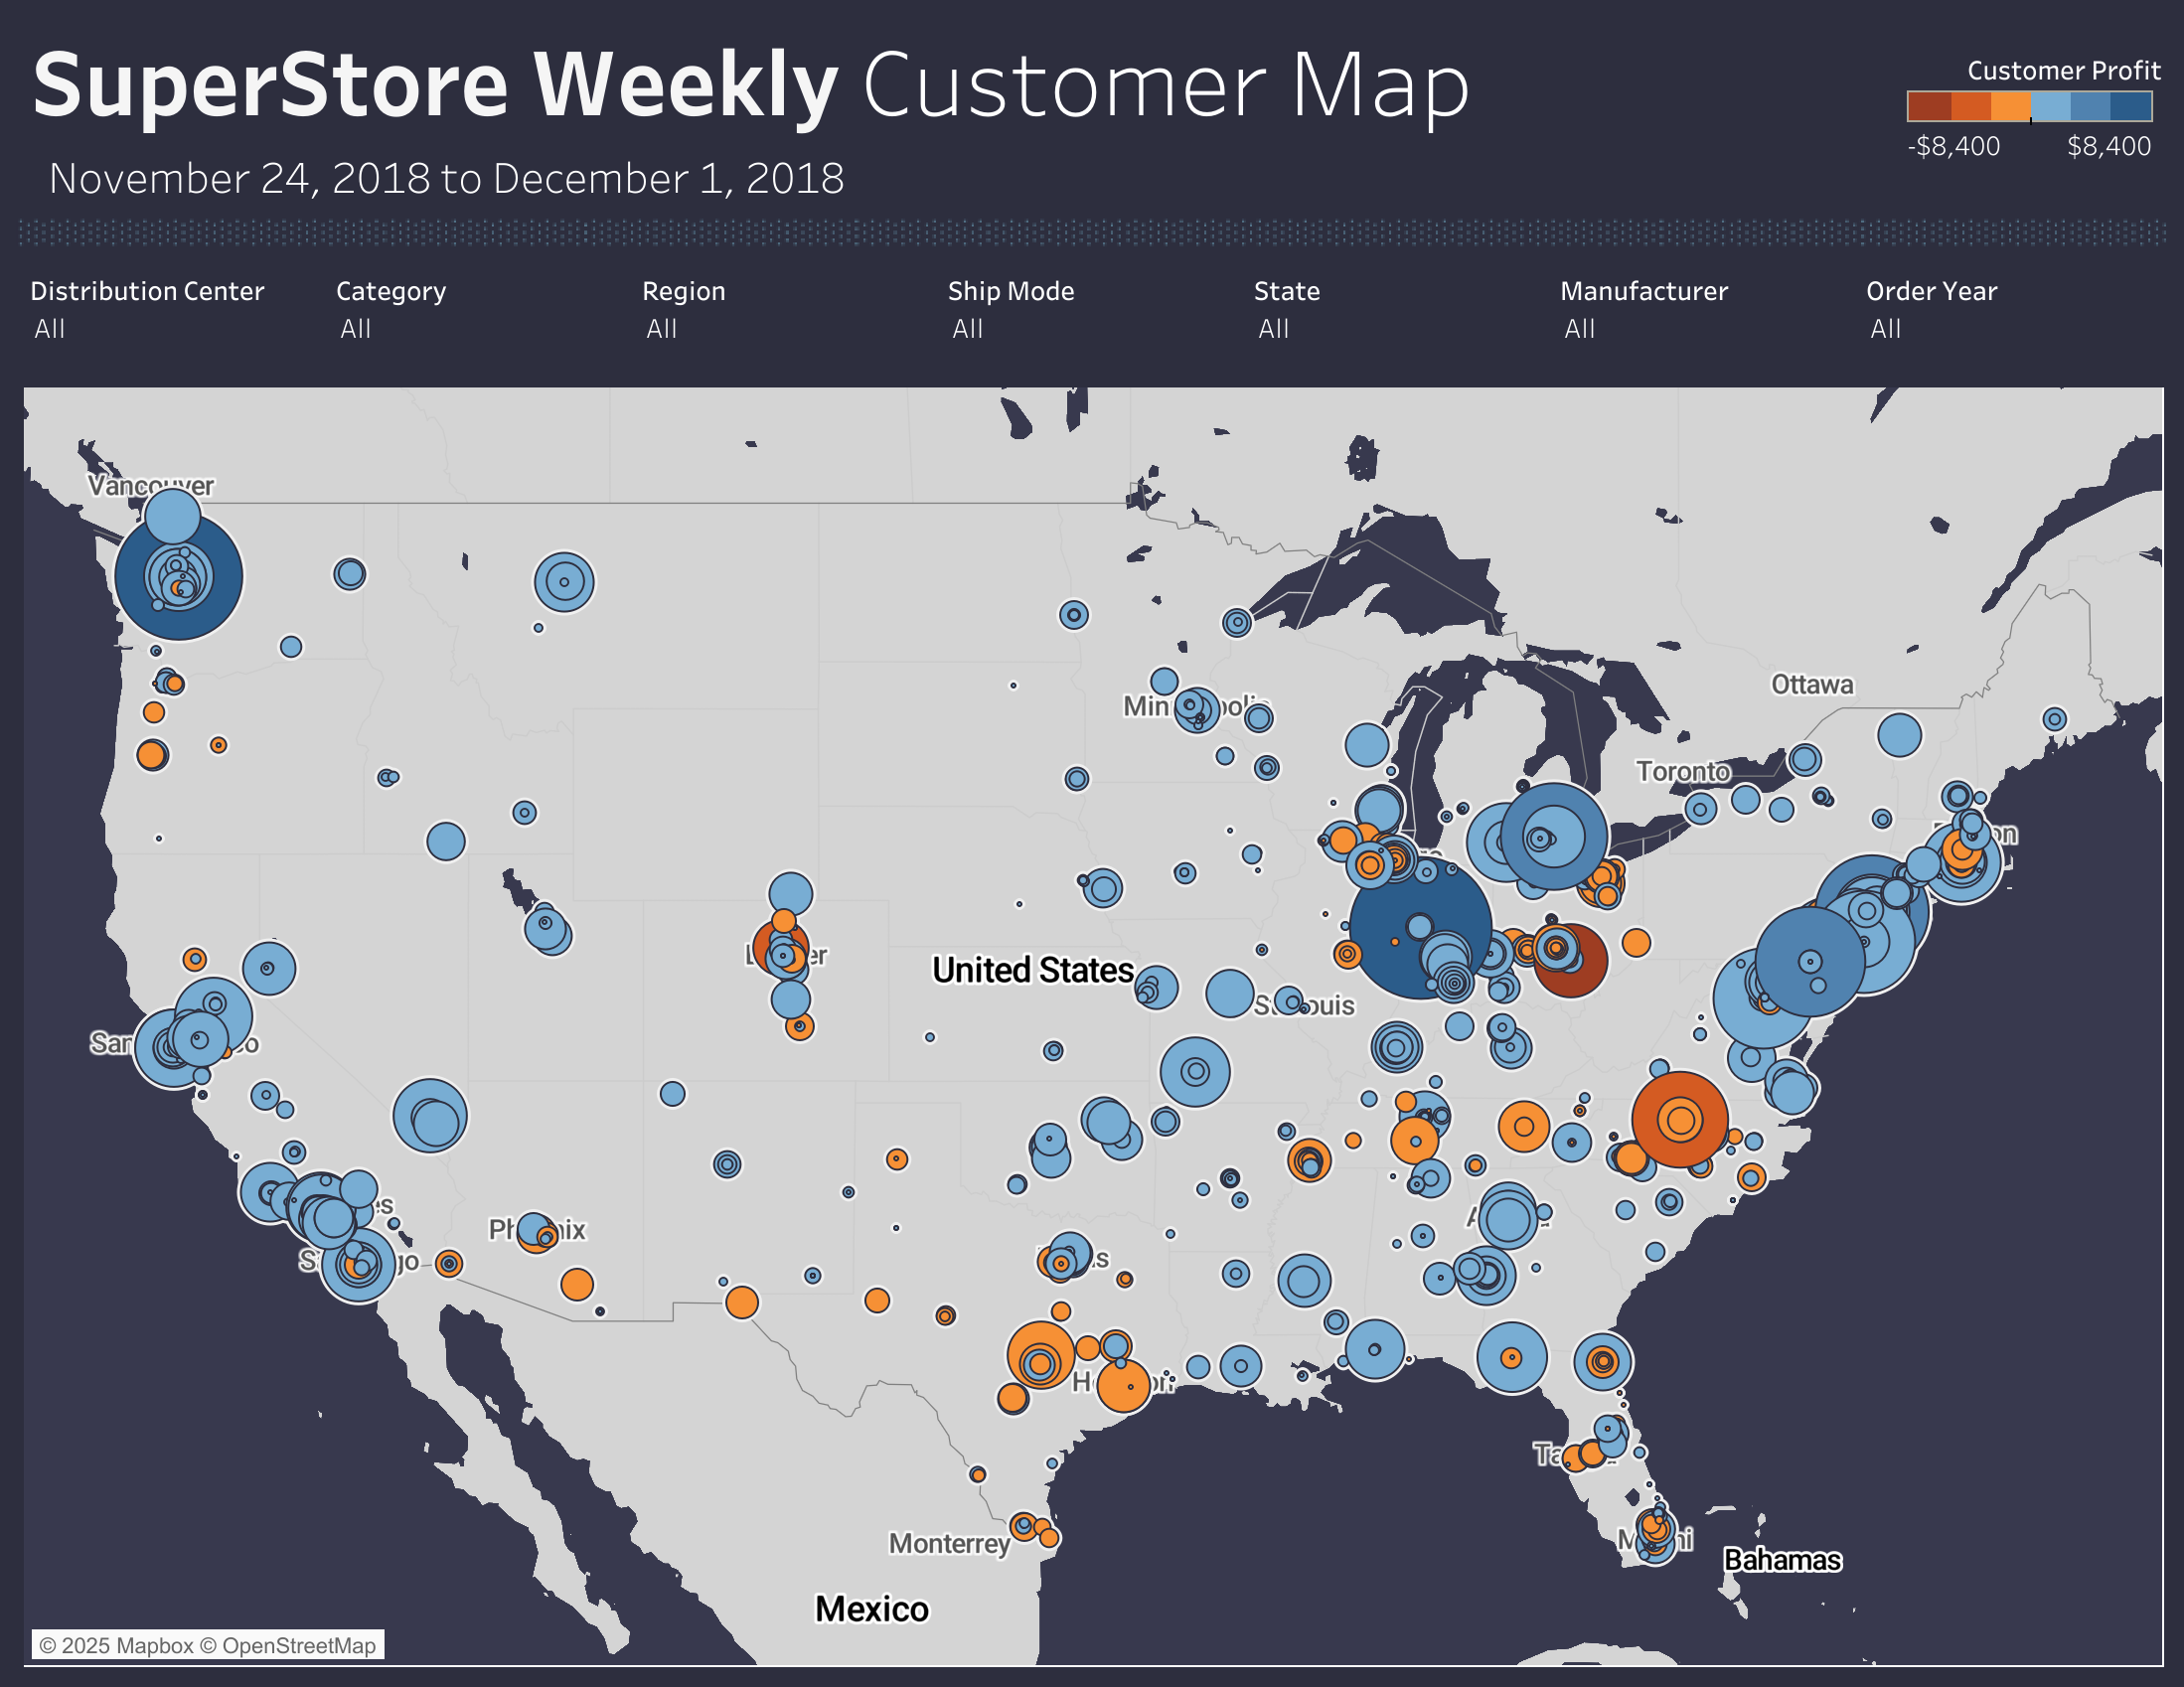

This screenshot's page, from the dashboard's own definition file:
{"tool":"tableau","page":{"name":"5 Geo Chart","canvas":[1100,850],"ordinal":4},"visuals":[{"type":"text","box":[8,8,1084,183]},{"type":"legend","title":"Big Dumb Map","param":"[Sample - Superstore].[sum:Profit:qk]","box":[956,21,132,79]},{"type":"worksheet","title":"Date","mark":"Automatic","box":[20,73,584,36]},{"type":"image","param":"Image/Border5.png","box":[8,110,1083,16]},{"type":"filter","title":"Big Dumb Map","param":"[Sample - Superstore].[State (group)]","box":[11,131,154,55]},{"type":"filter","title":"Big Dumb Map","param":"[Sample - Superstore].[none:Category:nk]","box":[165,131,154,55]},{"type":"filter","title":"Big Dumb Map","param":"[Sample - Superstore].[none:Region:nk]","box":[319,131,154,55]},{"type":"filter","title":"Big Dumb Map","param":"[Sample - Superstore].[none:Ship Mode:nk]","box":[473,131,154,55]},{"type":"filter","title":"Big Dumb Map","param":"[Sample - Superstore].[none:State:nk]","box":[627,131,154,55]},{"type":"filter","title":"Big Dumb Map","param":"[Sample - Superstore].[Product Name (group)]","box":[781,131,154,55]},{"type":"filter","title":"Big Dumb Map","param":"[Sample - Superstore].[yr:Order Date:ok]","box":[935,131,154,55]},{"type":"worksheet","title":"Big Dumb Map","mark":"Automatic","box":[8,191,1084,651]}]}

Visuals, with their boxes in screenshot pixels (x1, y1, x2, y2), scaled from the page's 1100x850 canvas onto the 2184x1687 screenshot:
text: 16, 16, 2168, 380
"Big Dumb Map" legend: 1898, 42, 2160, 199
"Date" worksheet: 40, 145, 1199, 217
image: 16, 219, 2166, 250
"Big Dumb Map" filter: 22, 260, 328, 370
"Big Dumb Map" filter: 328, 260, 633, 370
"Big Dumb Map" filter: 633, 260, 939, 370
"Big Dumb Map" filter: 939, 260, 1245, 370
"Big Dumb Map" filter: 1245, 260, 1551, 370
"Big Dumb Map" filter: 1551, 260, 1856, 370
"Big Dumb Map" filter: 1856, 260, 2162, 370
"Big Dumb Map" worksheet: 16, 380, 2168, 1671
